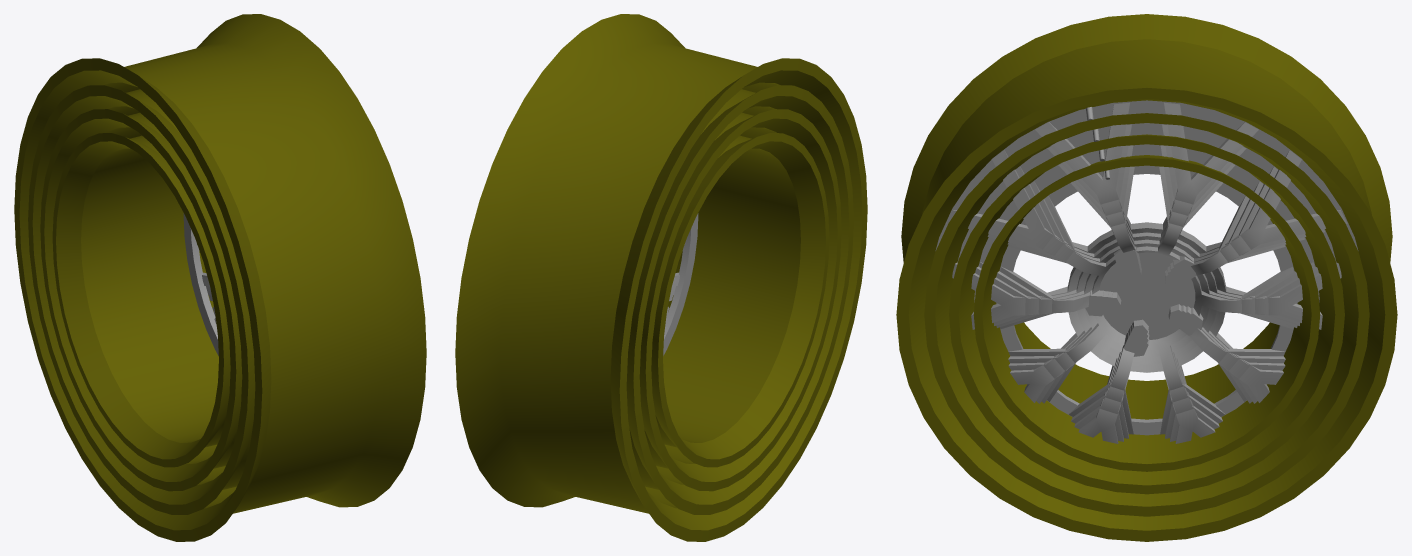
File: Rim_14.FBX
3 renders of one model, left to right at view 1: azimuth 30°, elevation 25°; view 2: azimuth 150°, elevation 25°; view 3: azimuth 270°, elevation 25°, orthographic.
Visible parts, largest first — view 1: Rim_14_XL_InsideDetailed, Rim_14_S_InsideDetailed, Rim_14_M_InsideDetailed, Rim_14_L_Lod0, Rim_14_L_InsideDetailed; view 2: Rim_14_XL_InsideDetailed, Rim_14_S_InsideDetailed, Rim_14_M_InsideDetailed, Rim_14_L_Lod0, Rim_14_L_InsideDetailed; view 3: Rim_14_XL_InsideDetailed, Rim_14_S_InsideDetailed, Rim_14_L_Lod0, Rim_14_M_InsideDetailed.
Boxes of the visible parts, bbox=[...] form: Rim_14_XL_InsideDetailed: bbox=[14, 14, 426, 541]; Rim_14_S_InsideDetailed: bbox=[52, 133, 230, 467]; Rim_14_M_InsideDetailed: bbox=[40, 109, 242, 491]; Rim_14_L_Lod0: bbox=[28, 85, 248, 514]; Rim_14_L_InsideDetailed: bbox=[126, 89, 255, 489]; Rim_14_XL_InsideDetailed: bbox=[455, 14, 867, 541]; Rim_14_S_InsideDetailed: bbox=[651, 133, 829, 467]; Rim_14_M_InsideDetailed: bbox=[639, 109, 841, 491]; Rim_14_L_Lod0: bbox=[633, 85, 853, 514]; Rim_14_L_InsideDetailed: bbox=[626, 89, 755, 489]; Rim_14_XL_InsideDetailed: bbox=[896, 14, 1397, 541]; Rim_14_S_InsideDetailed: bbox=[973, 155, 1320, 471]; Rim_14_L_Lod0: bbox=[924, 113, 1369, 516]; Rim_14_M_InsideDetailed: bbox=[949, 134, 1344, 494].
Size of what is drawn, in the model's own units: 633 by 1704 by 1704.
